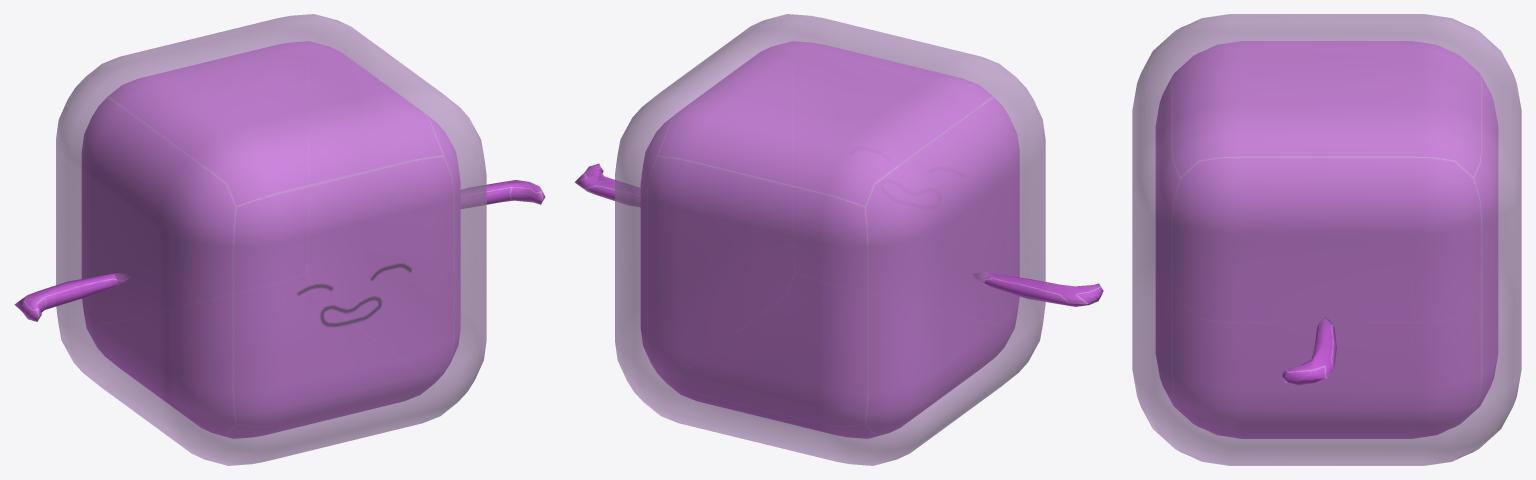
File: Grape_Slimey.fbx
3 views of the same model, side by side, from view 1: azimuth 30°, elevation 25°; view 2: azimuth 150°, elevation 25°; view 3: azimuth 270°, elevation 25° (orthographic). The views are drawn at different scales.
Parts seen in each view (by area): view 1: pasted__pasted__pasted__pCube1, pCube3; view 2: pasted__pasted__pasted__pCube1, pCube3; view 3: pasted__pasted__pasted__pCube1, pCube3.
Part boxes in pixels (x1,y1,x2,y2): pasted__pasted__pasted__pCube1: (56, 14, 486, 465); pCube3: (14, 41, 545, 438); pasted__pasted__pasted__pCube1: (615, 14, 1045, 465); pCube3: (574, 41, 1103, 438); pasted__pasted__pasted__pCube1: (1132, 14, 1521, 465); pCube3: (1155, 41, 1498, 438).
Size of the model in its own units: 2.22 by 1.36 by 1.36.
2 materials, 1 textured.
